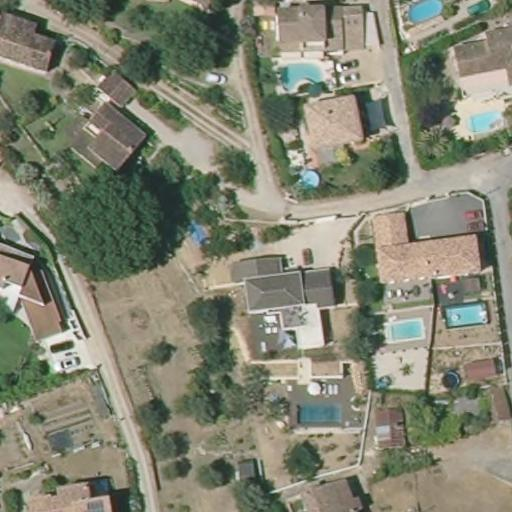pool: (268, 53, 332, 98), (295, 395, 359, 431), (378, 315, 431, 347), (435, 301, 494, 325), (403, 0, 446, 29), (467, 105, 507, 135), (294, 168, 321, 192)
